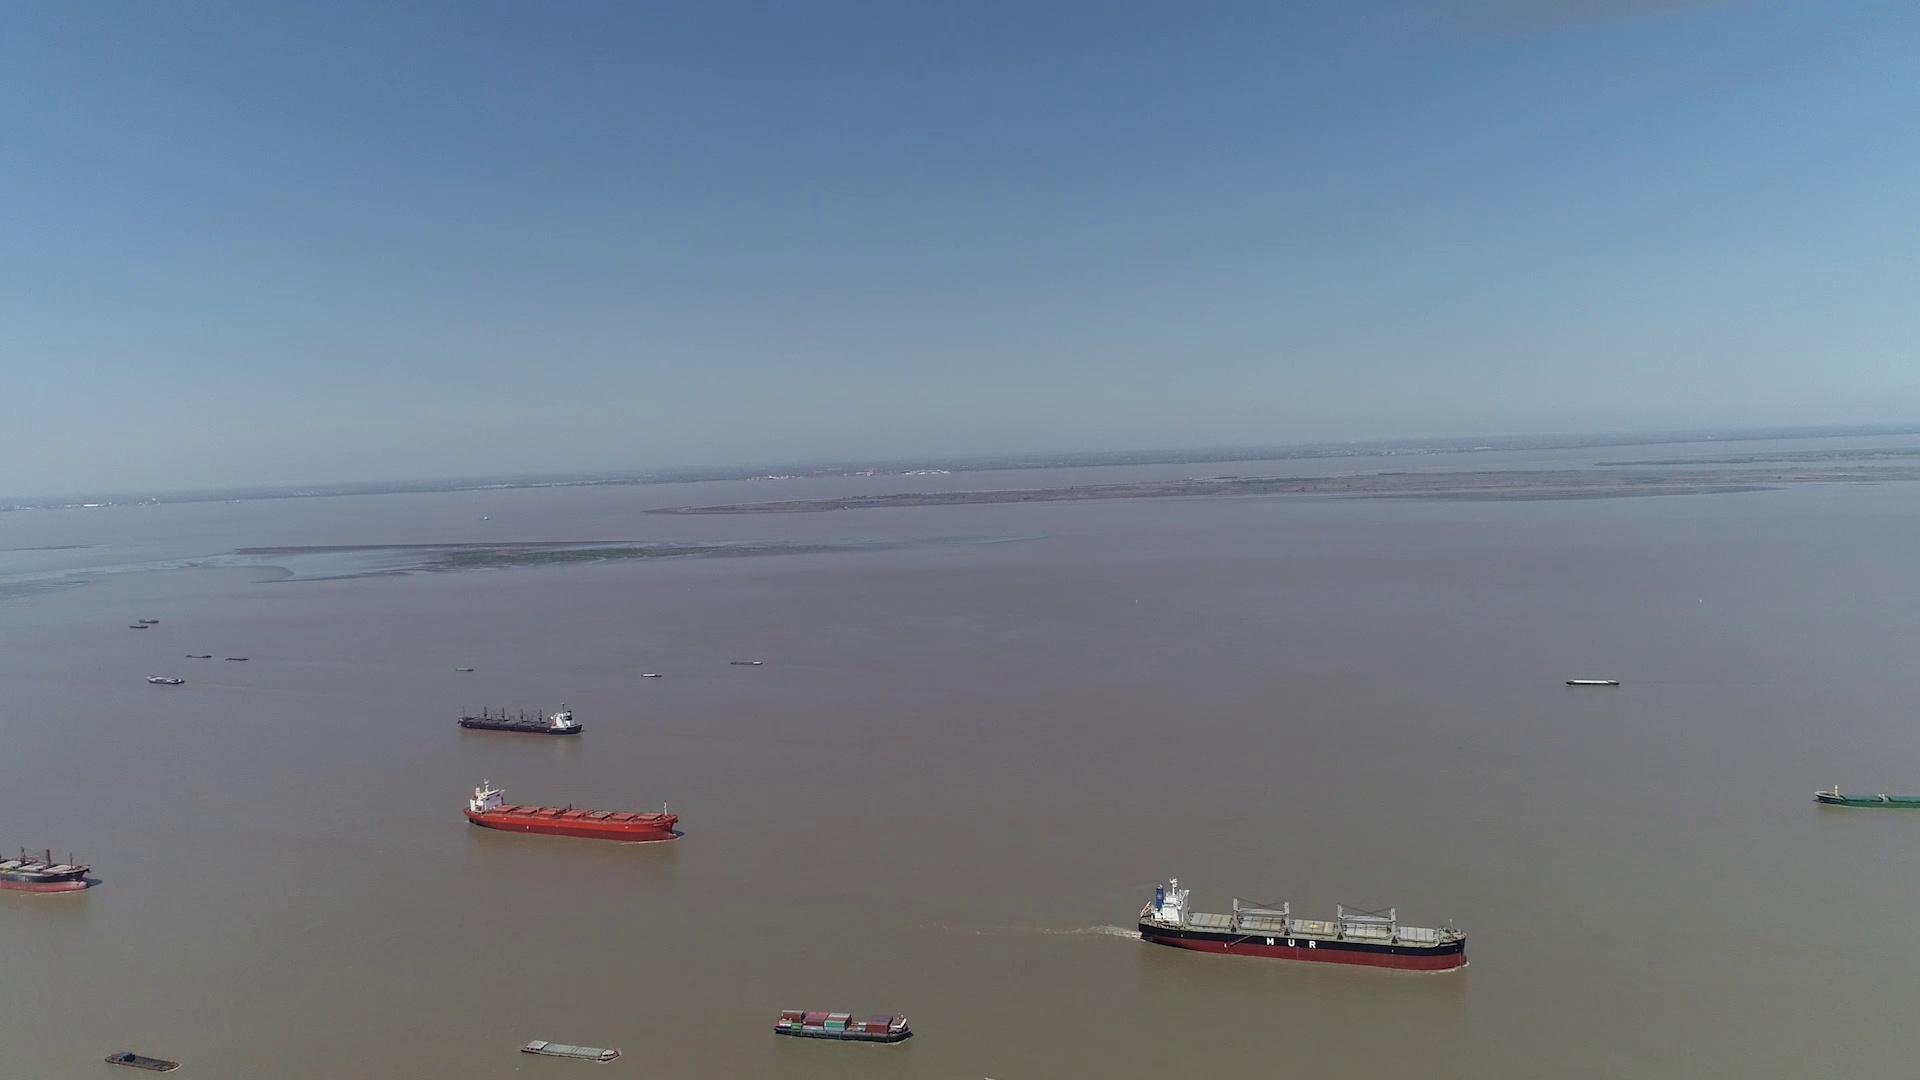ship: (1138, 878, 1470, 971), (468, 779, 680, 843), (1, 837, 94, 894), (777, 1010, 913, 1044), (460, 704, 583, 736), (520, 1036, 622, 1062), (1815, 787, 1919, 810), (105, 1050, 177, 1071), (1563, 676, 1615, 686), (146, 676, 183, 686)
